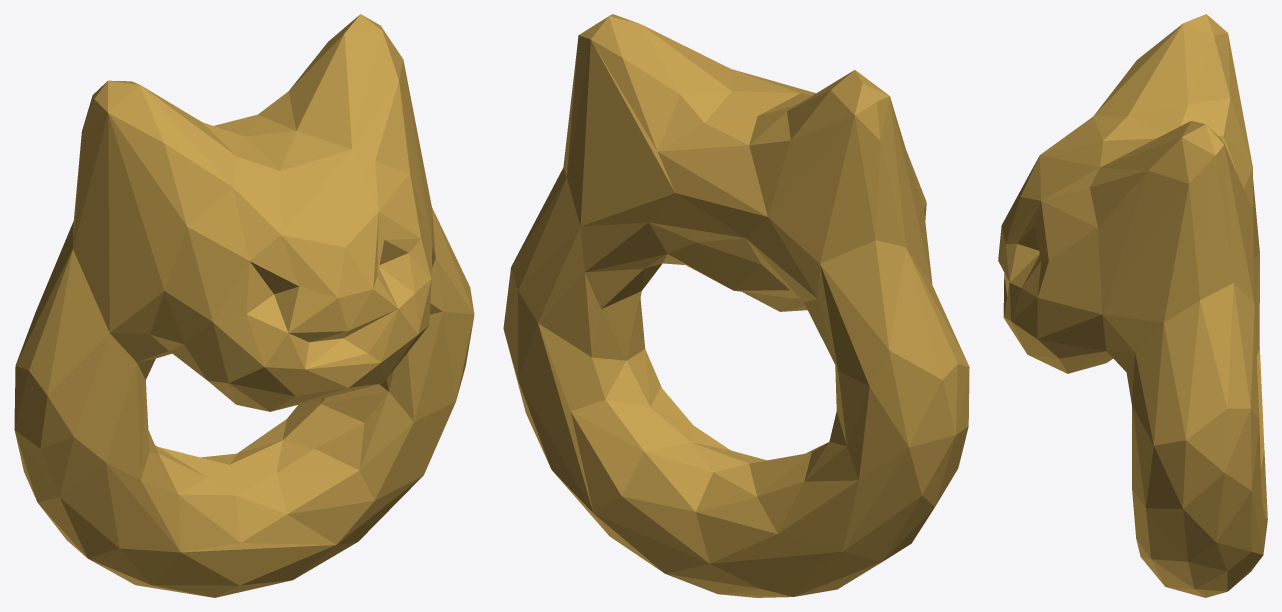
The model's file is artestmodel.glb.
3 views of the same model, side by side, from view 1: azimuth 30°, elevation 25°; view 2: azimuth 150°, elevation 25°; view 3: azimuth 270°, elevation 25° (orthographic). The views are drawn at different scales.
Visible parts, largest first — view 1: トーラス; view 2: トーラス; view 3: トーラス.
Part boxes in pixels (box(x1,y1,x2,y2)): トーラス: box(14, 14, 474, 597); トーラス: box(503, 14, 969, 597); トーラス: box(998, 14, 1267, 597).
Bounding box in the file's own units: 2.42 × 2.82 × 1.36.
